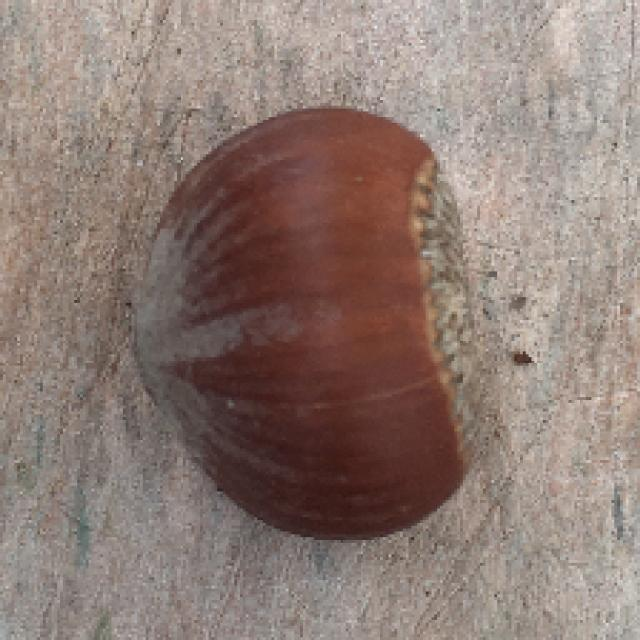DamagedHazelnut: (138, 112, 484, 544)
